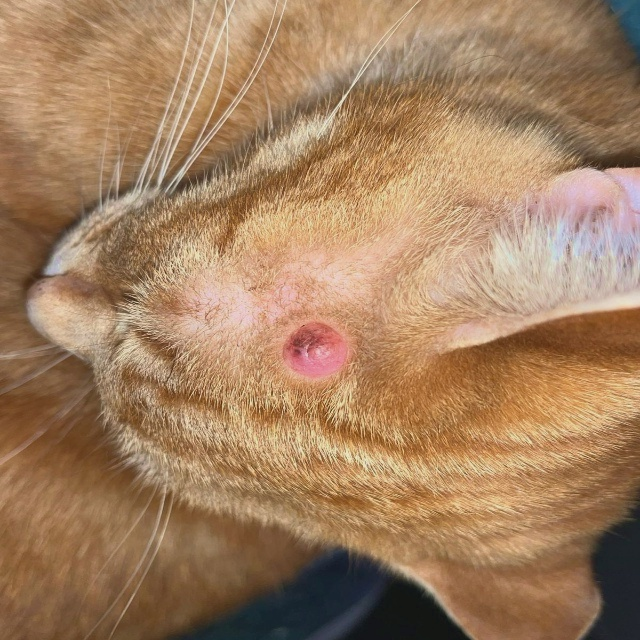lump_and_bump: (281, 321, 354, 380)
